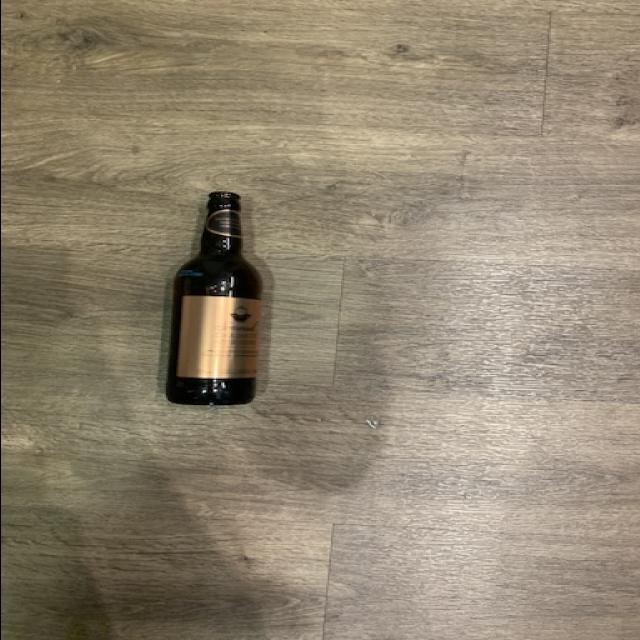Glass Bottle: (164, 190, 262, 408)
